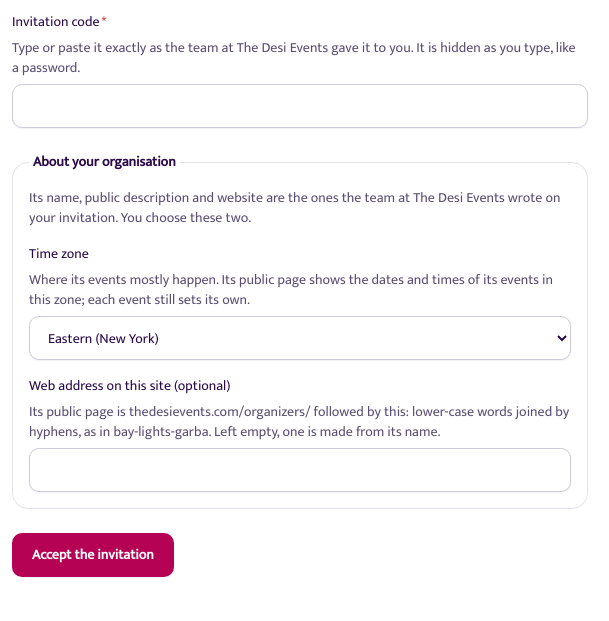
Scenario: the accept form › sends nothing that cannot be a code, and says why in the field
Click the button "Accept the invitation" at point(93, 555), box [12,533,174,577]
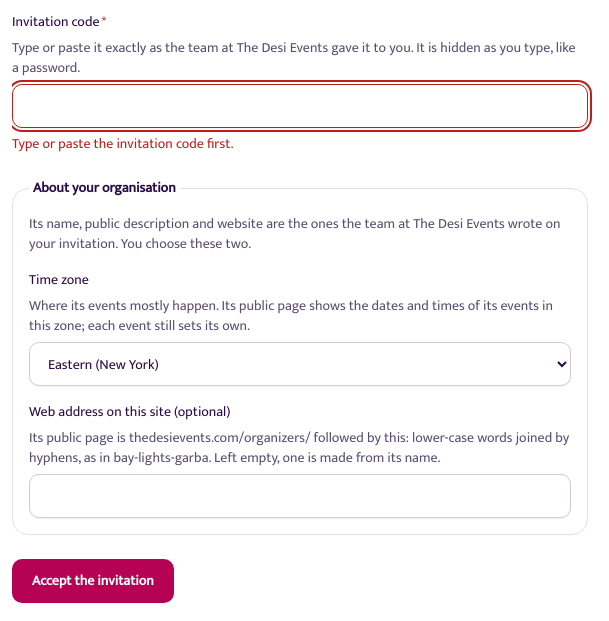
Check: the text "Type or paste the invitation code first." is shown, box [12,132,233,155]
Type "abc123" into the password field labelled "Invitation code*" at point(300, 106), box [12,84,588,128]
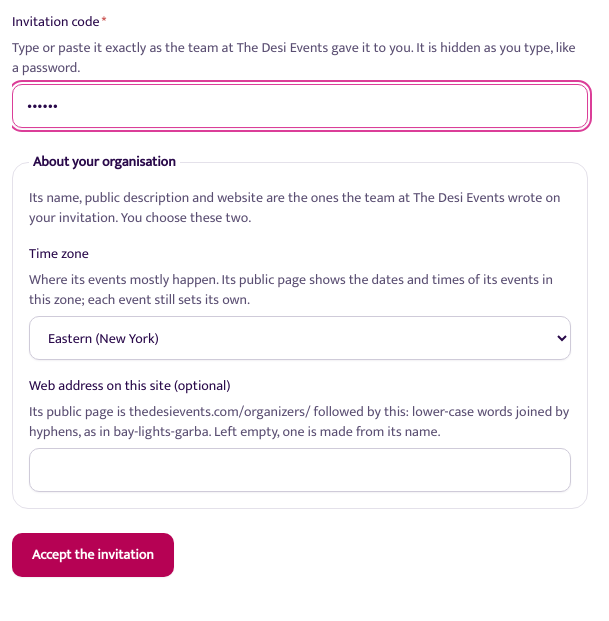
Click the button "Accept the invitation" at point(93, 555), box [12,533,174,577]
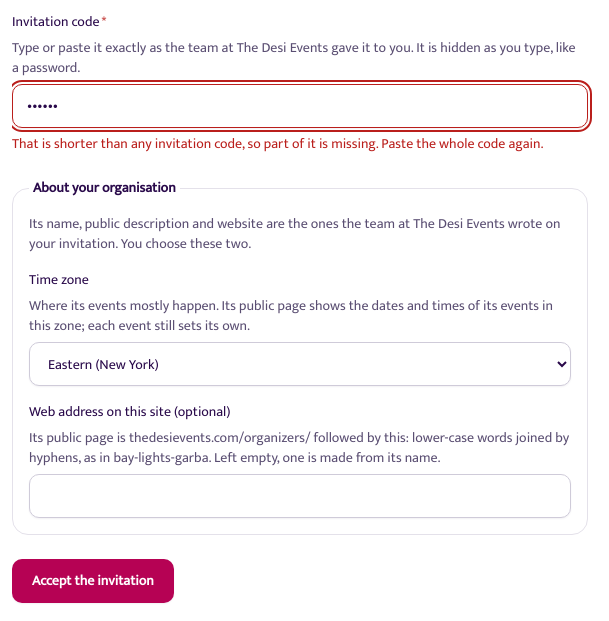
Check: the text "That is shorter than any invitation code, so part of it is missing. Paste the whole code again." is shown, box [12,132,544,155]
